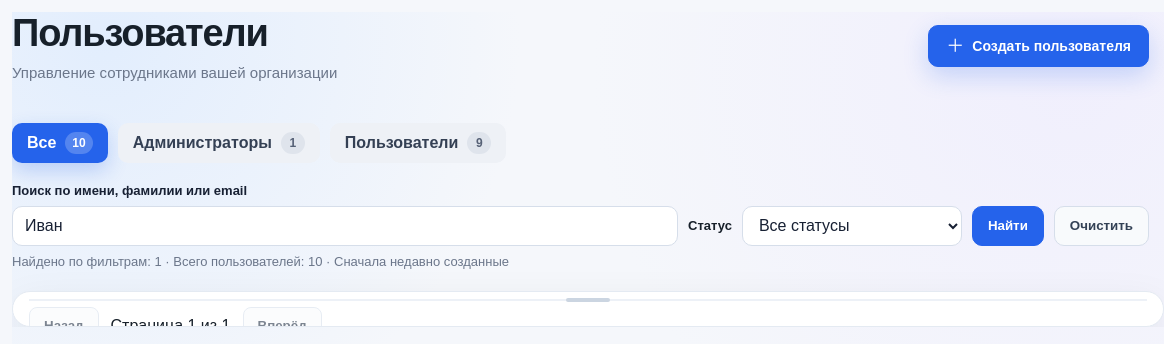
Test: Users directory search UI › закрывает подсказки клавишей Escape без отправки запроса
Focus the search field at (345, 226), box [12,206,678,246]
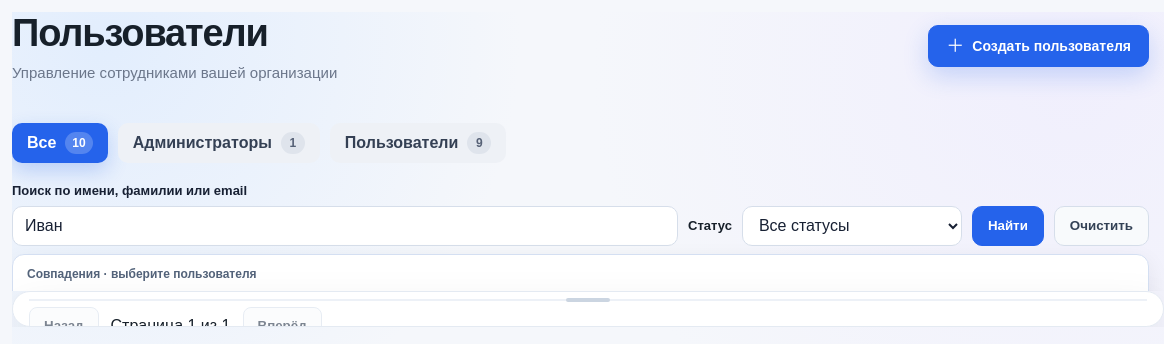
Now the text "Совпадения · выберите пользователя" is shown, box [27,267,256,281]
Press Escape in the search field, box [12,206,678,246]
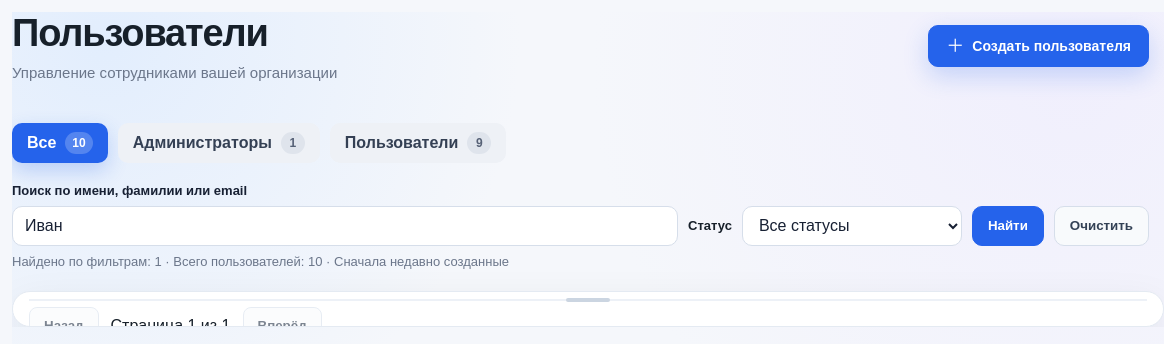
Now the text "Совпадения · выберите пользователя" is gone
